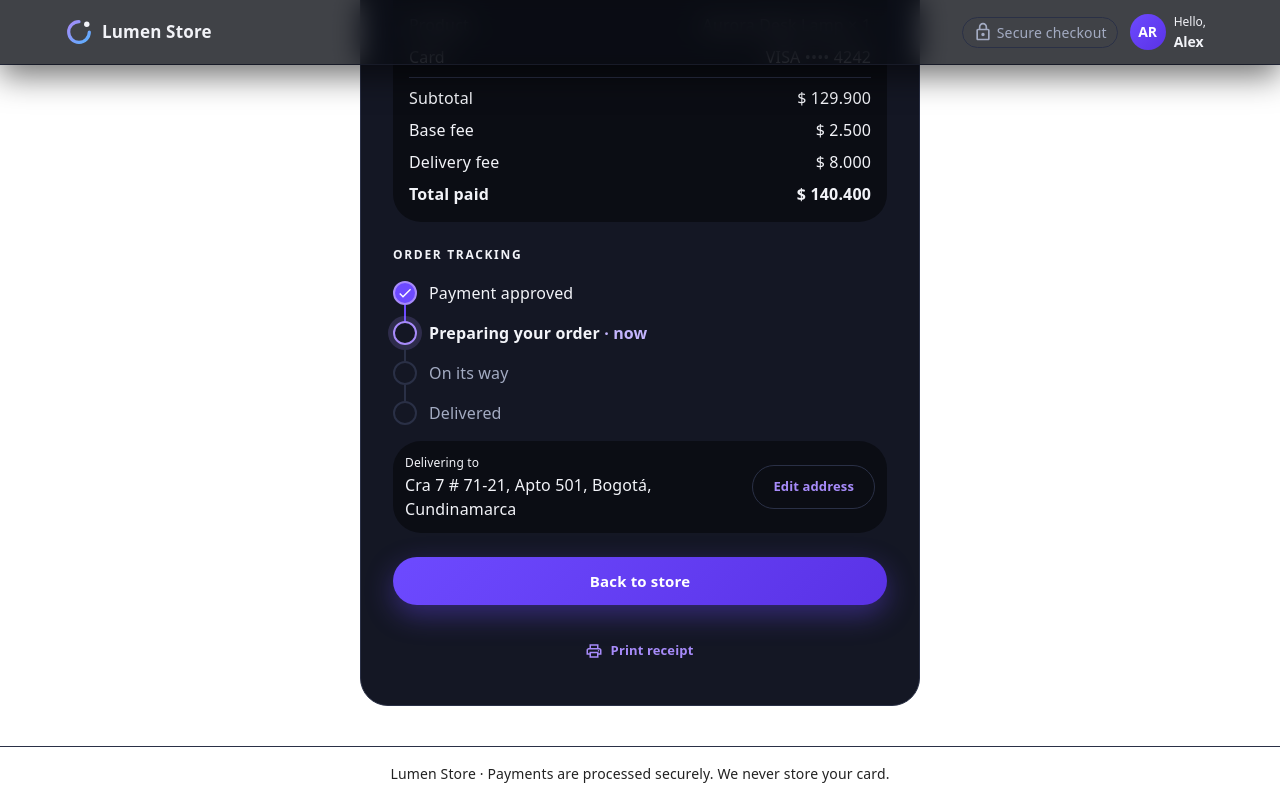
Test: order tracking on the status screen › AC-5: if the order shipped meanwhile, the dialog says so and stays open
(page scrolled)
Click the button "Edit address" at (814,487), box [752,465,875,509]
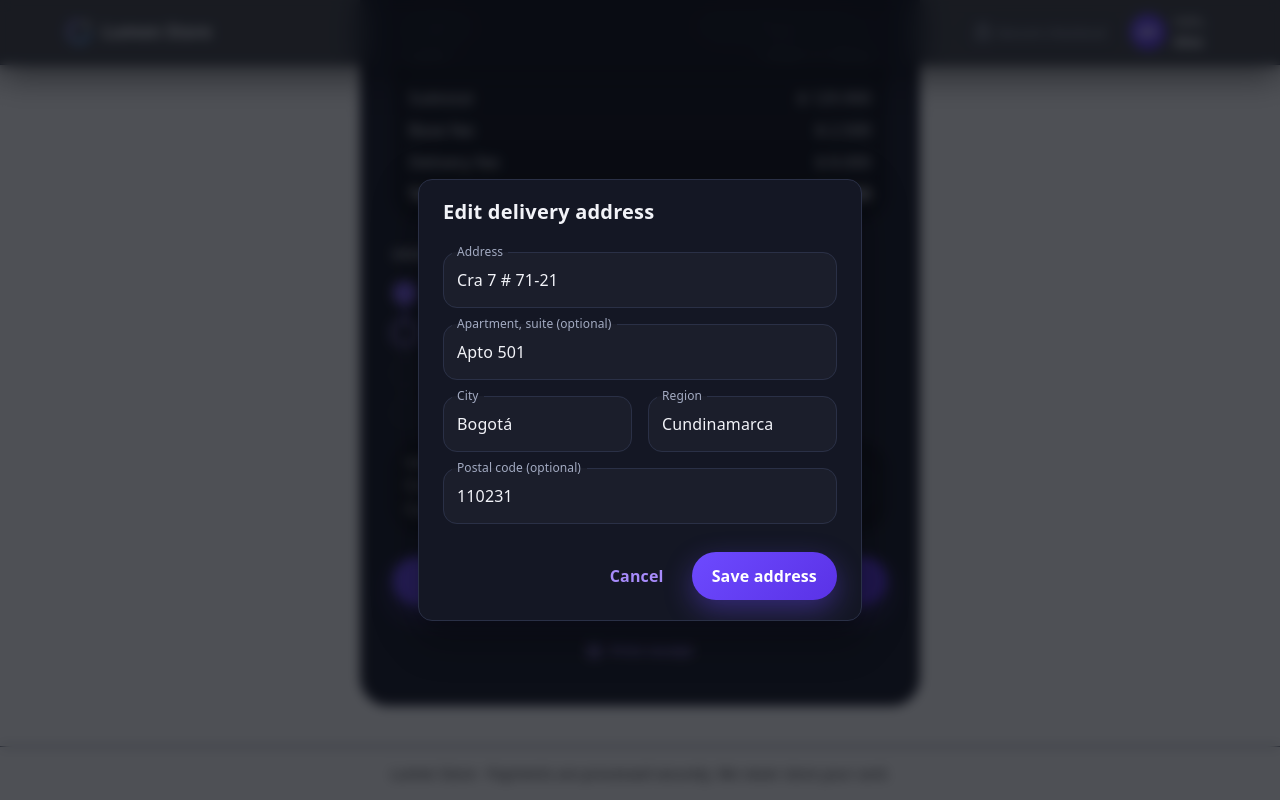
Click the button "Save address" at (764,576), box [692,552,837,600]
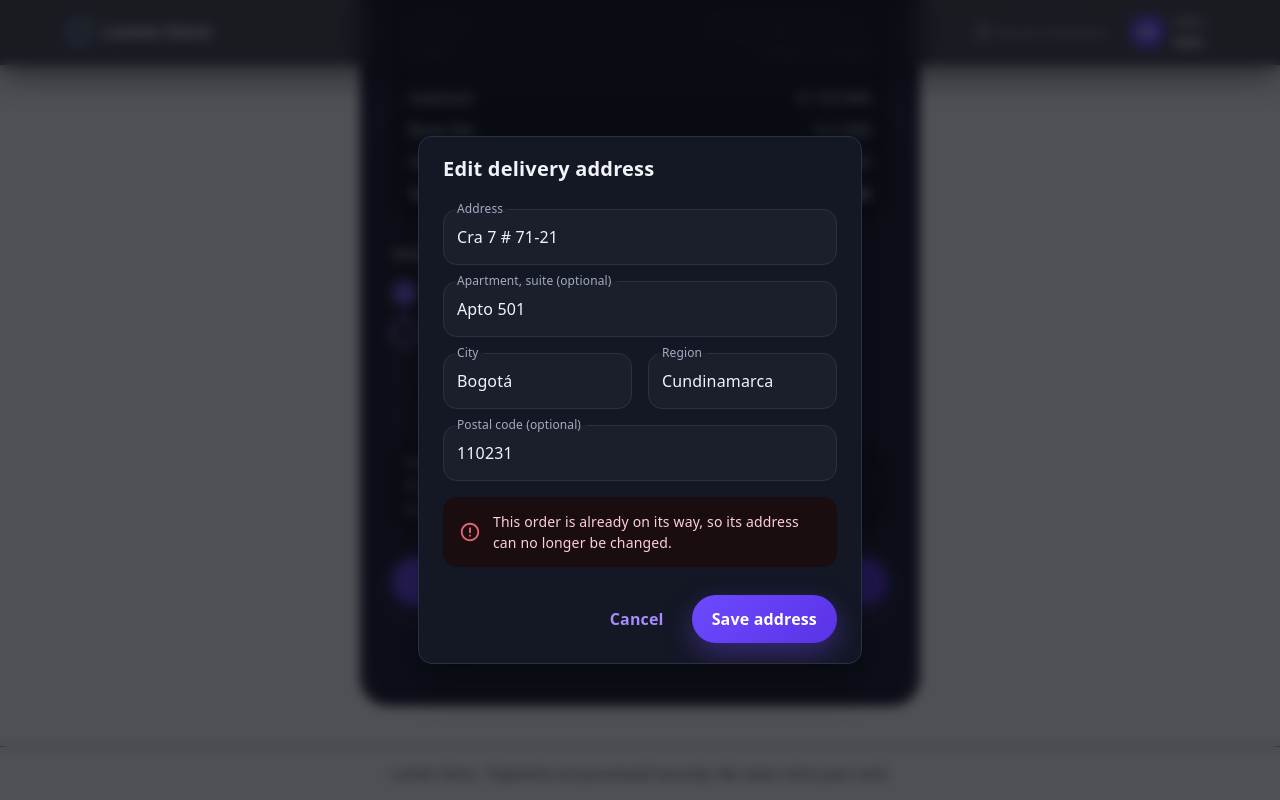
Expected: the message shows "already on its way", [493,512,799,552]
Click the button "Cancel" at (637,619), box [590,595,684,643]
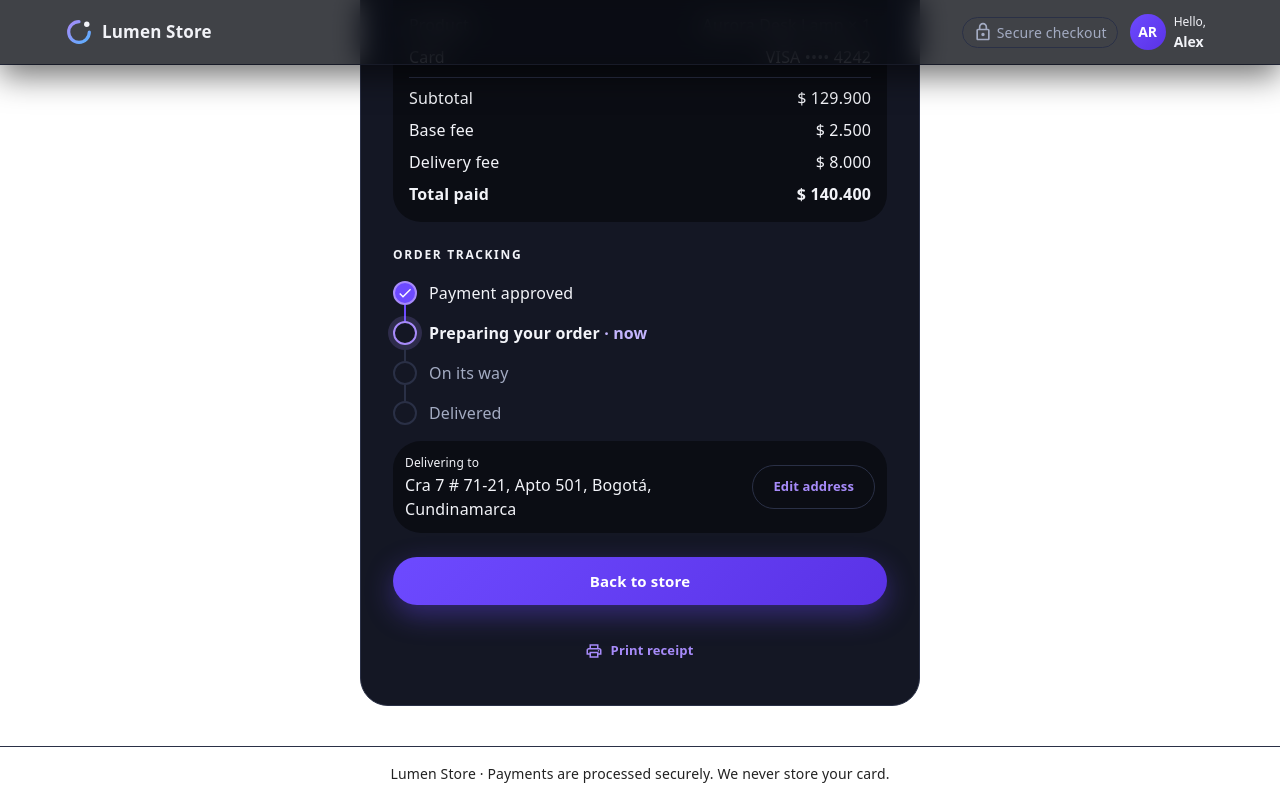
Expected: the dialog is gone
